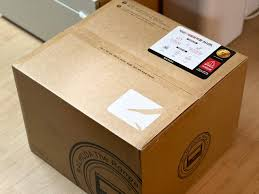undamaged: (14, 1, 250, 193)
